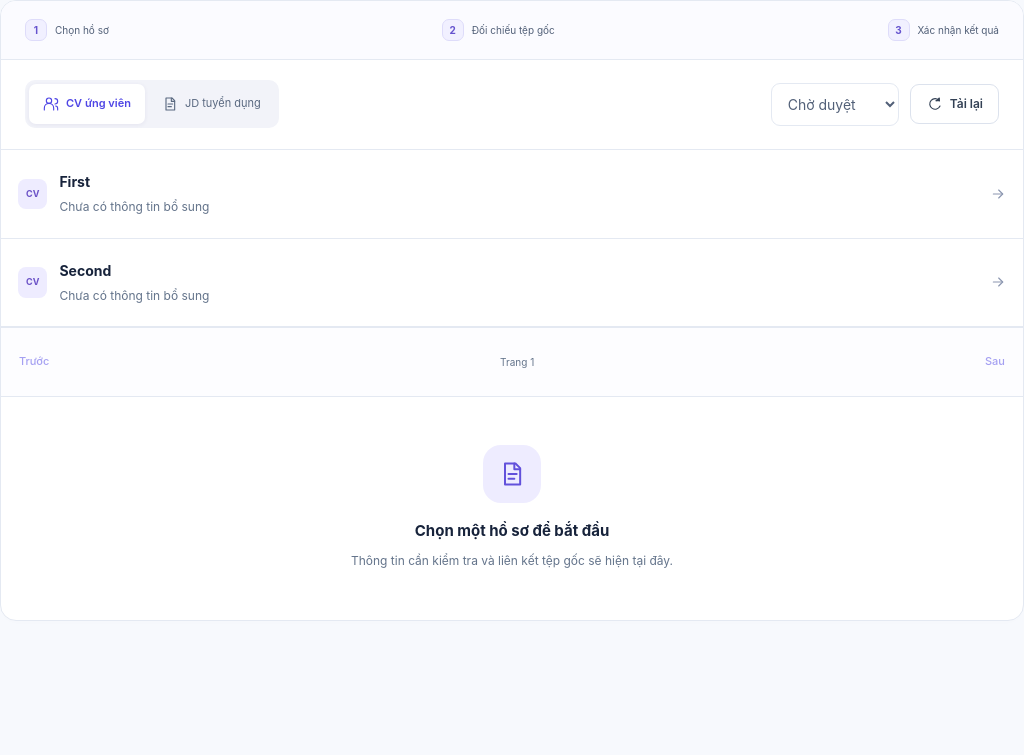
Test: review request lifecycle › prevents an old detail from replacing a newer selection
Click the button "CV First Chưa có thông tin bổ sung" at coordinates (75, 182), box [1,150,1023,239]
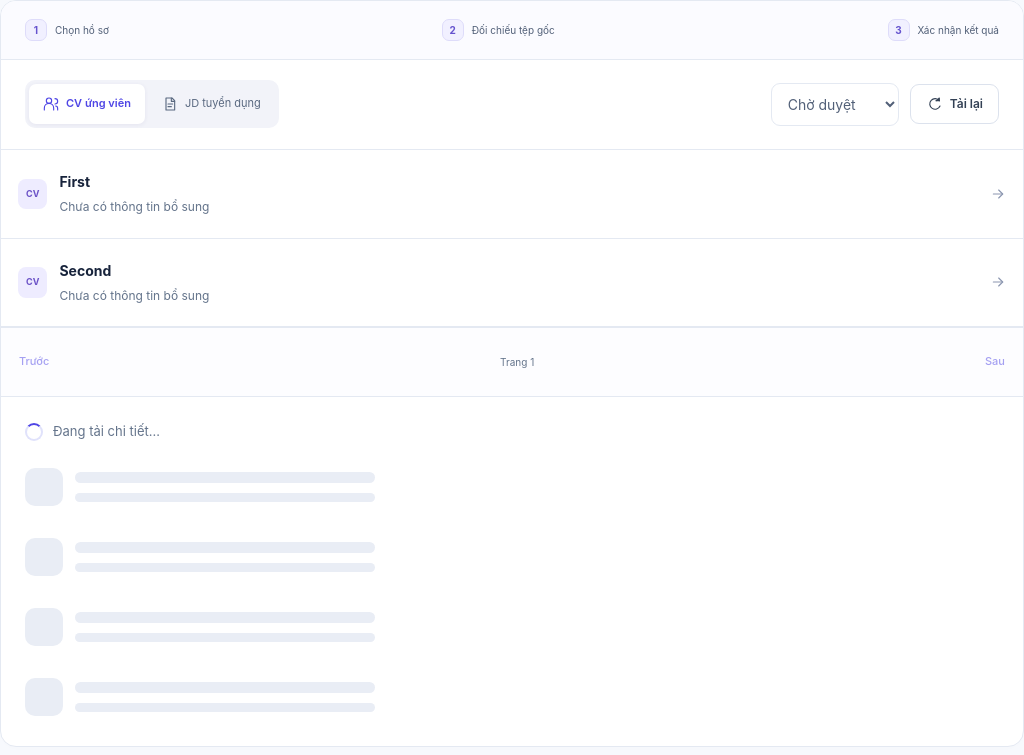
Click the button "CV Second Chưa có thông tin bổ sung" at coordinates (85, 270), box [1,239,1023,327]
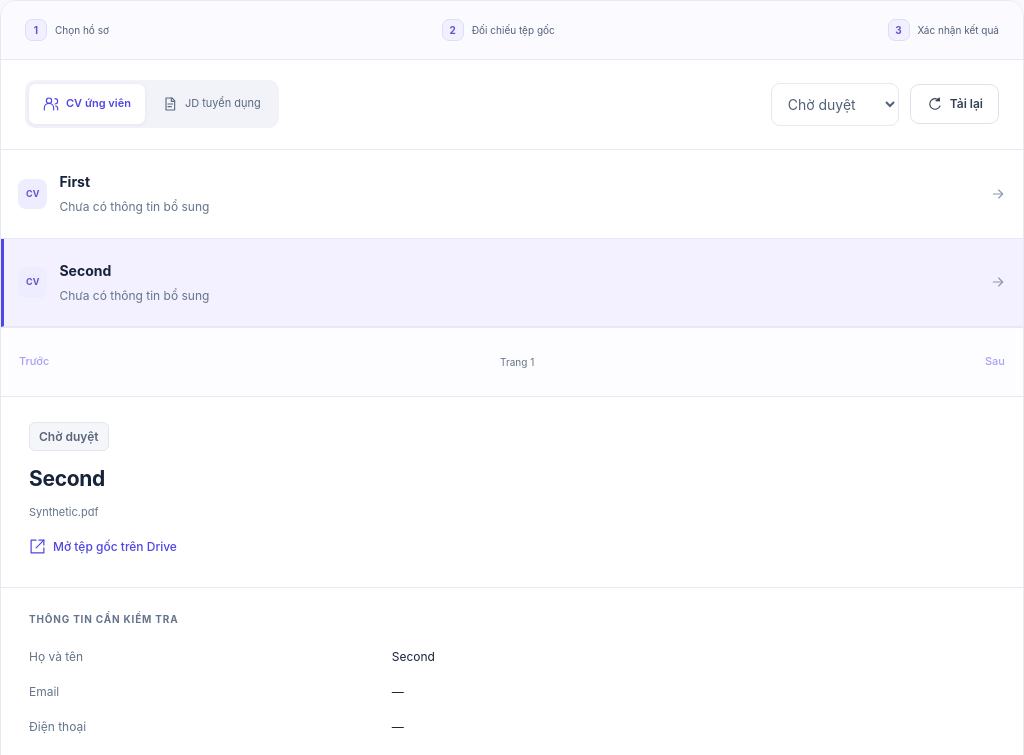
Check: the heading "Second" is shown, box [29,466,105,491]
